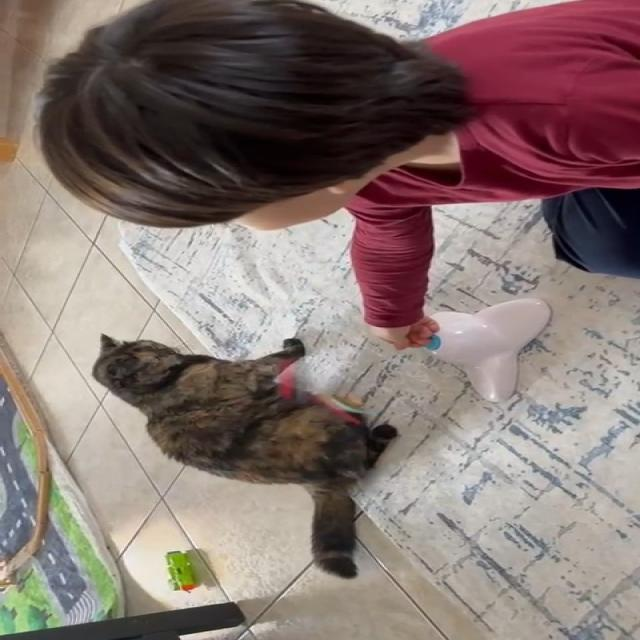authorized: (89, 332, 399, 579)
